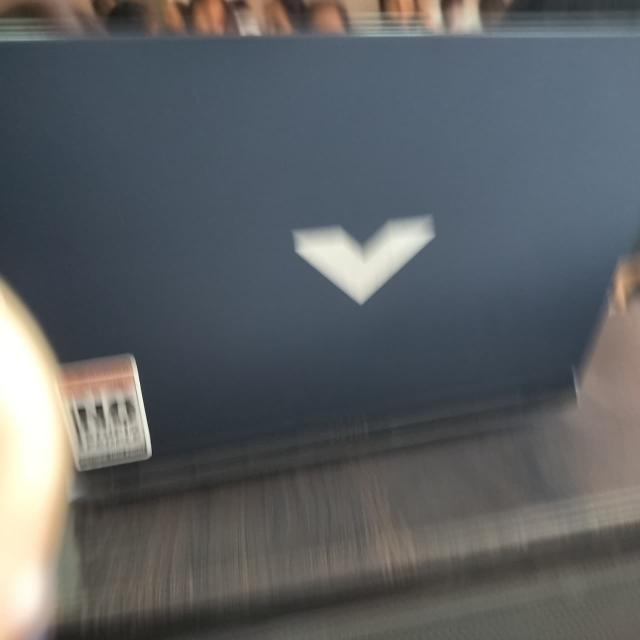laptop: (5, 34, 640, 462)
